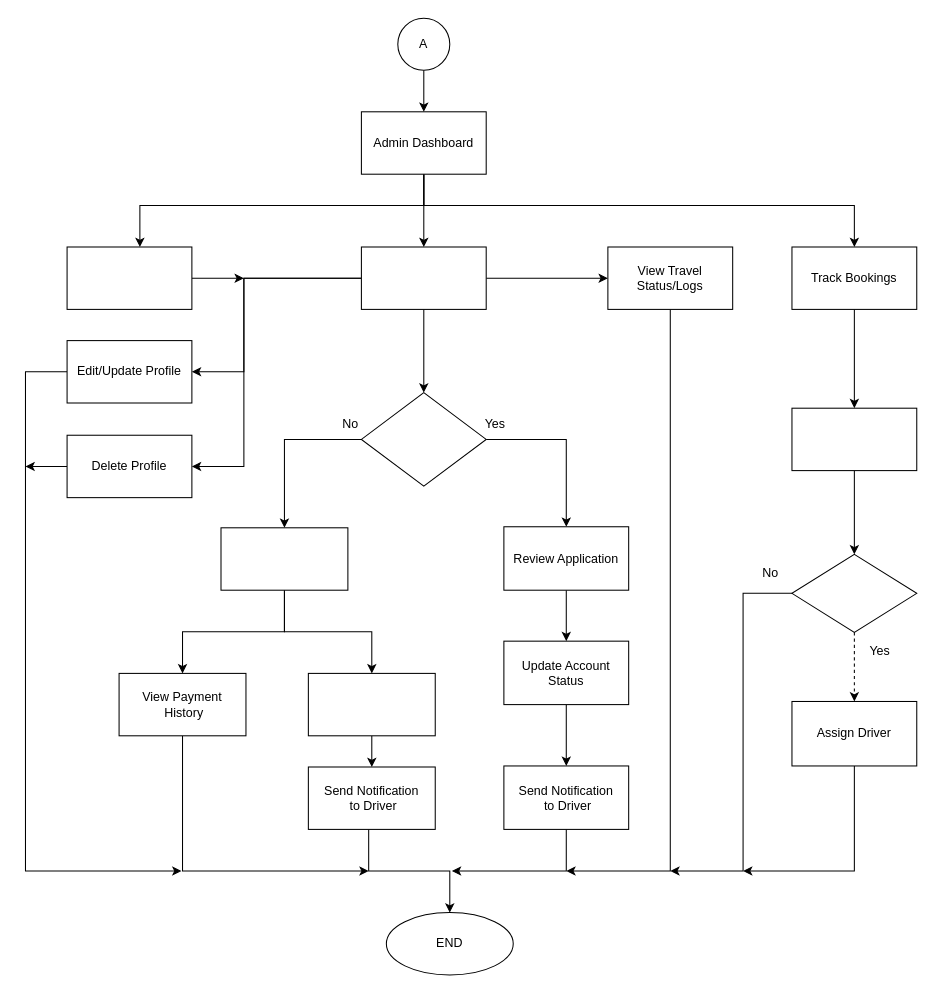
The diagram is 935 pixels wide and 993 high, and some of its shapes have lost their labels. Each missing label, with the centre of its shape:
"Is Account Pending" goes at pixel 423 439.
"Is Pending" goes at pixel 854 592.
"Manage Payment" goes at pixel 284 558.
"Send Payment" goes at pixel 371 704.
"View Customer Bookings" goes at pixel 854 439.
"View Customers" goes at pixel 129 277.
"View Drivers" goes at pixel 423 277.
